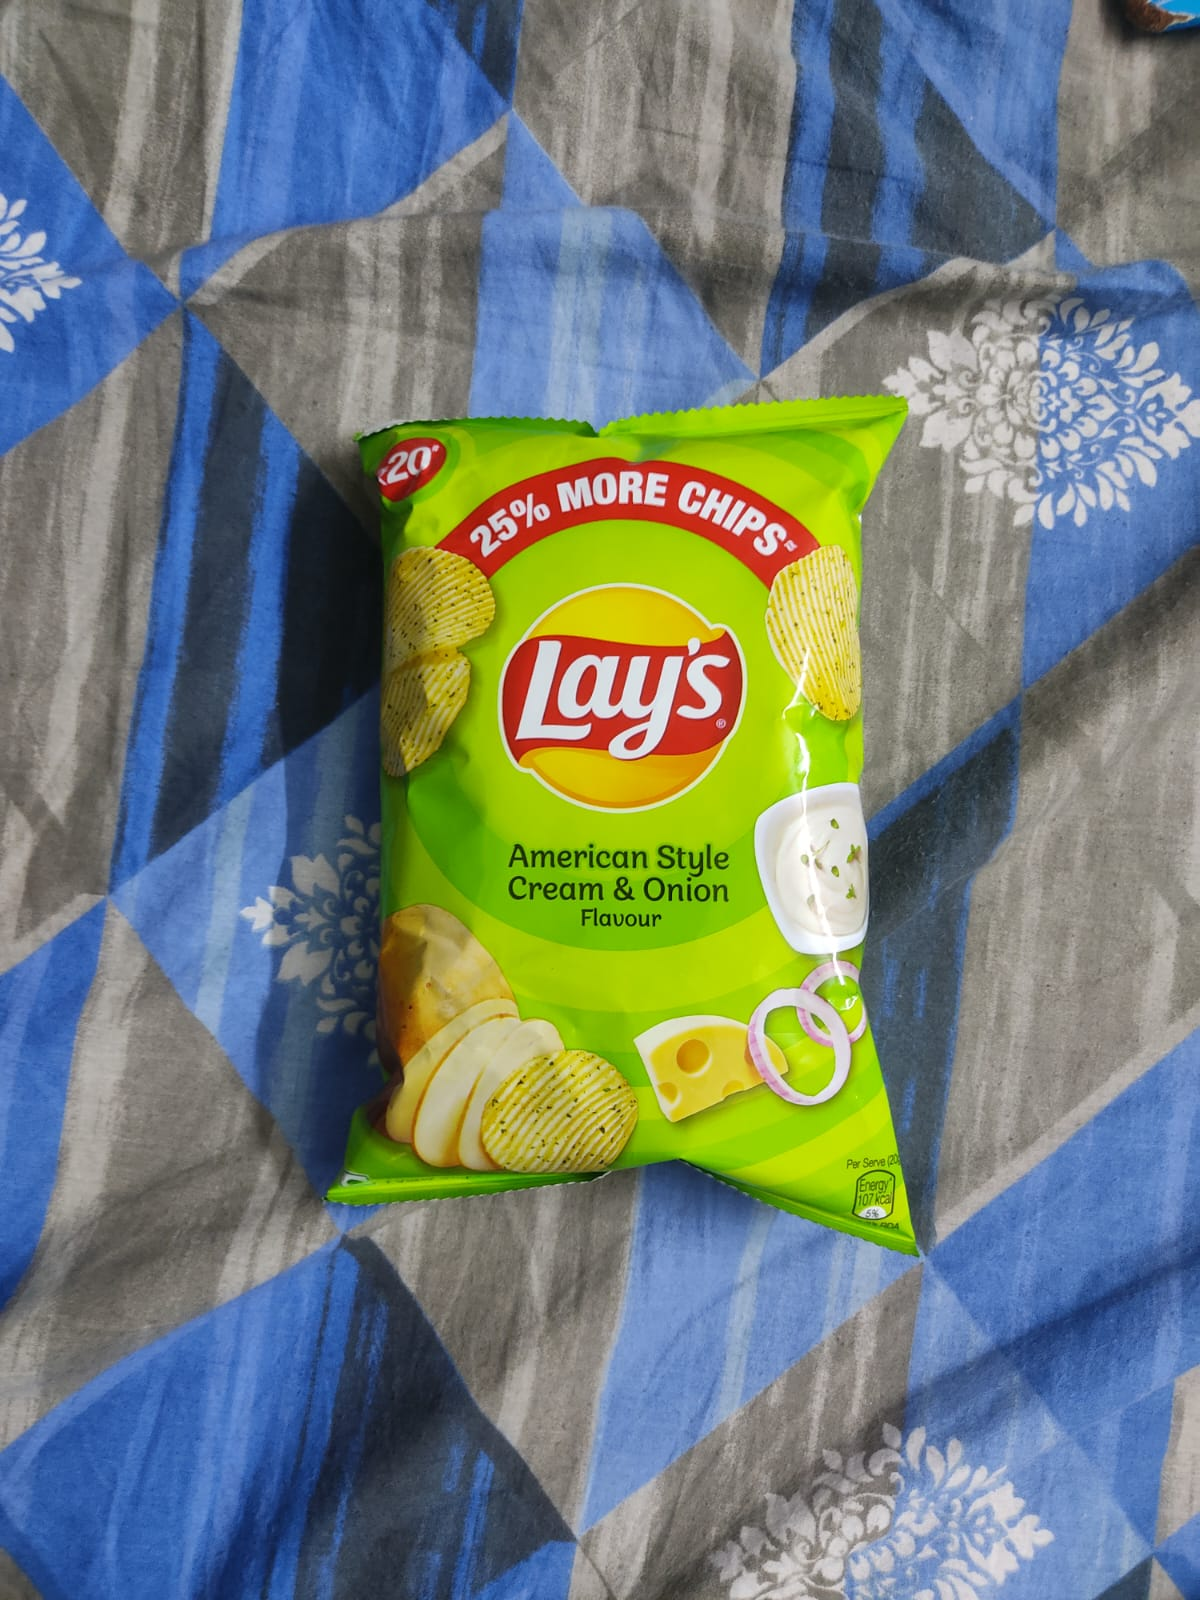020_GreenLays: (359, 416, 903, 1220)
